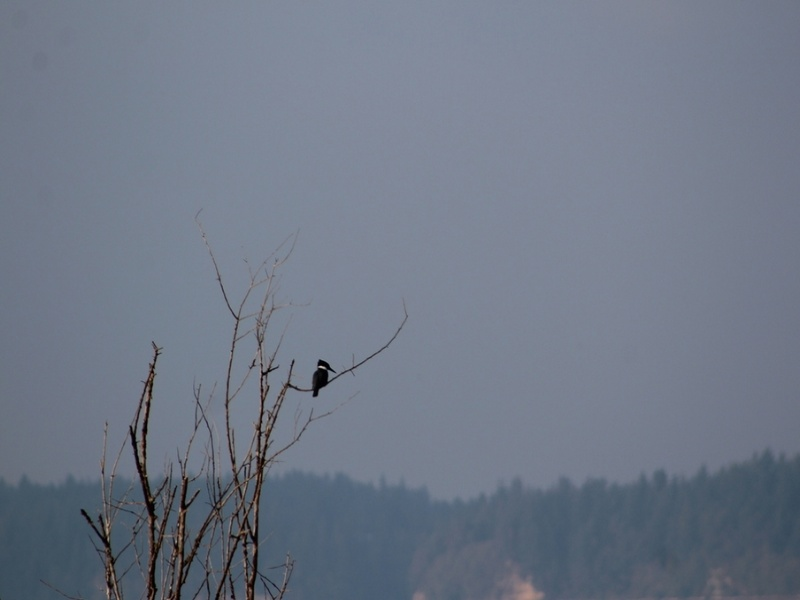kingfisher: (310, 358, 336, 397)
